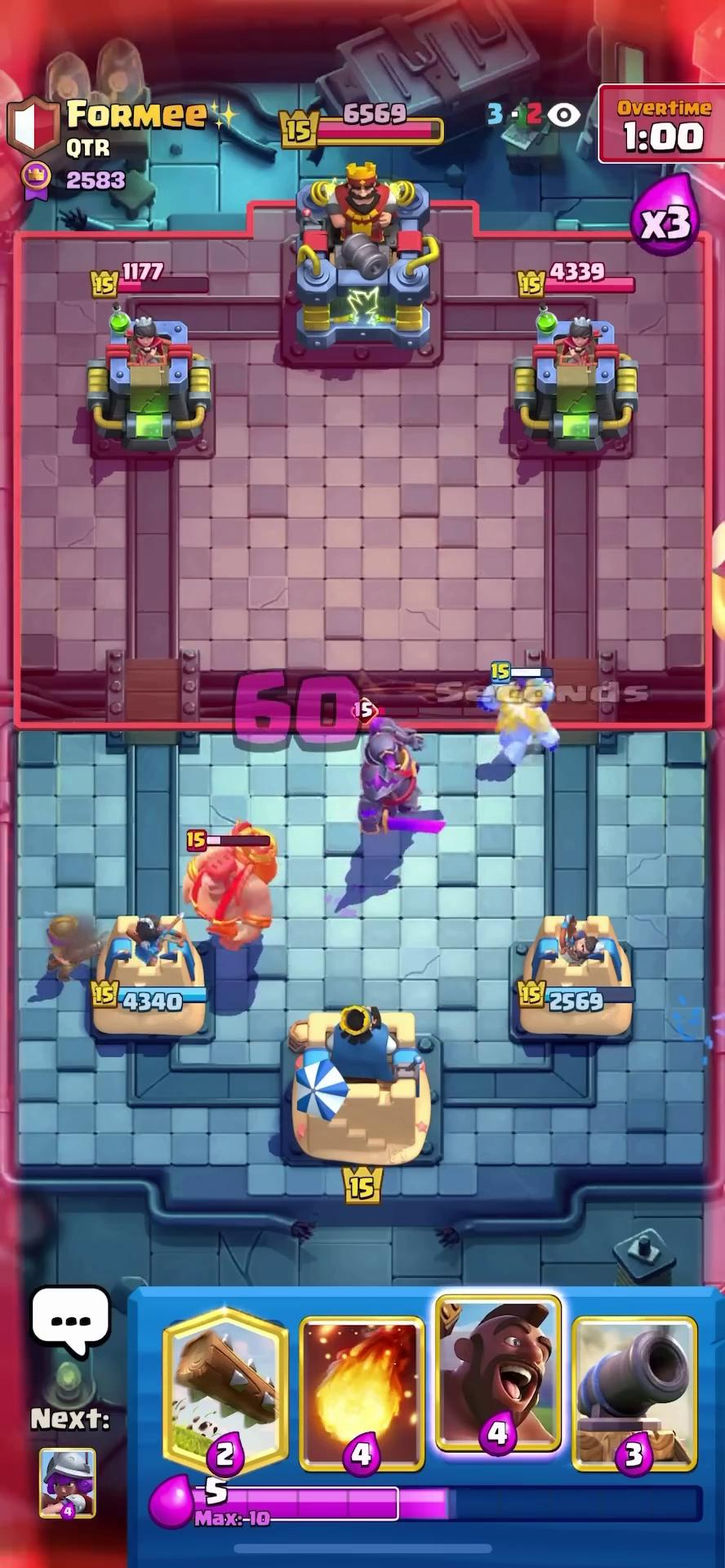ice_golem: (469, 664, 578, 778)
musketeer: (33, 900, 94, 978)
